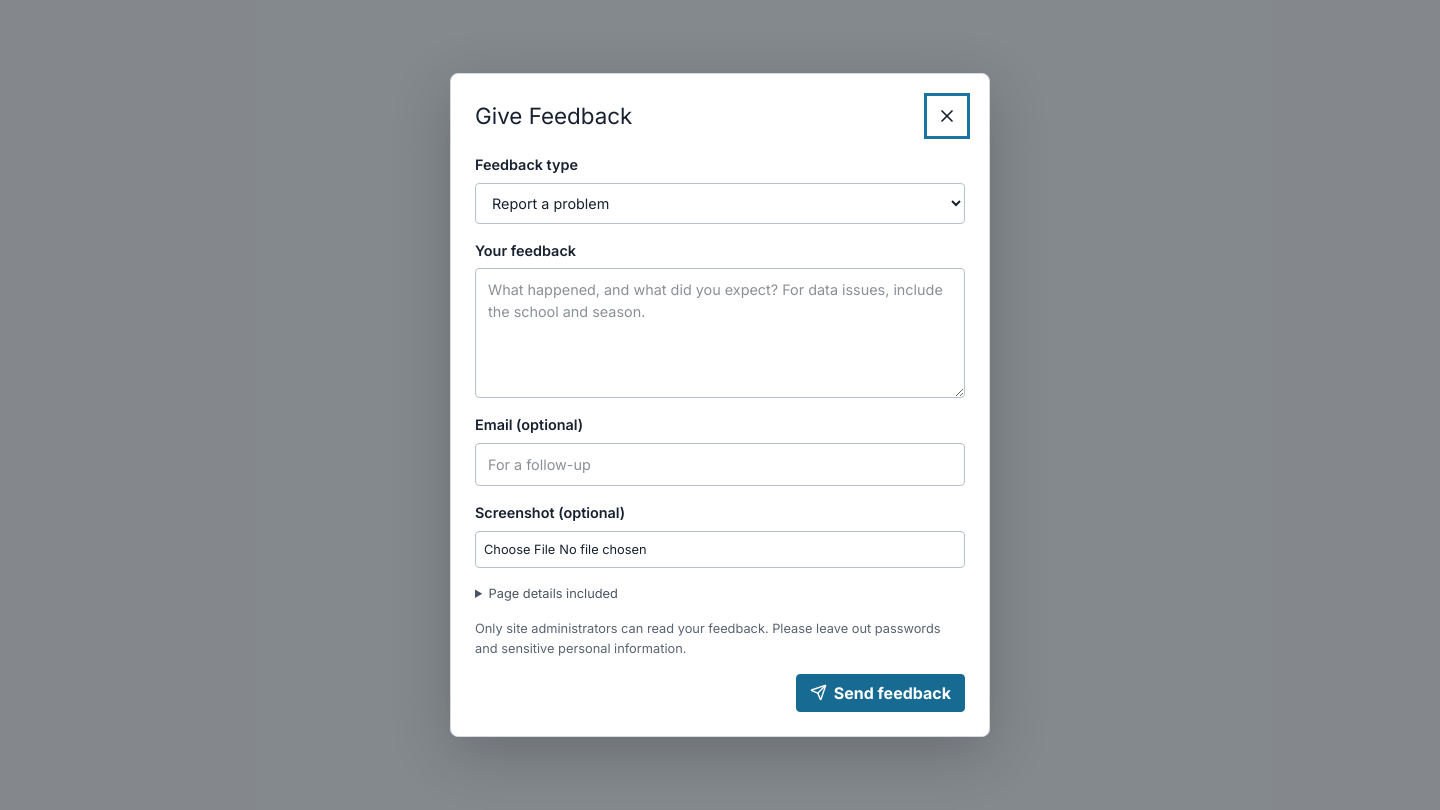
Test: FeedbackDialog › submits without email and attaches page context
In the text box labelled "Your feedback": (720,333) [475, 268, 965, 398], type "The table is difficult to read on my phone."
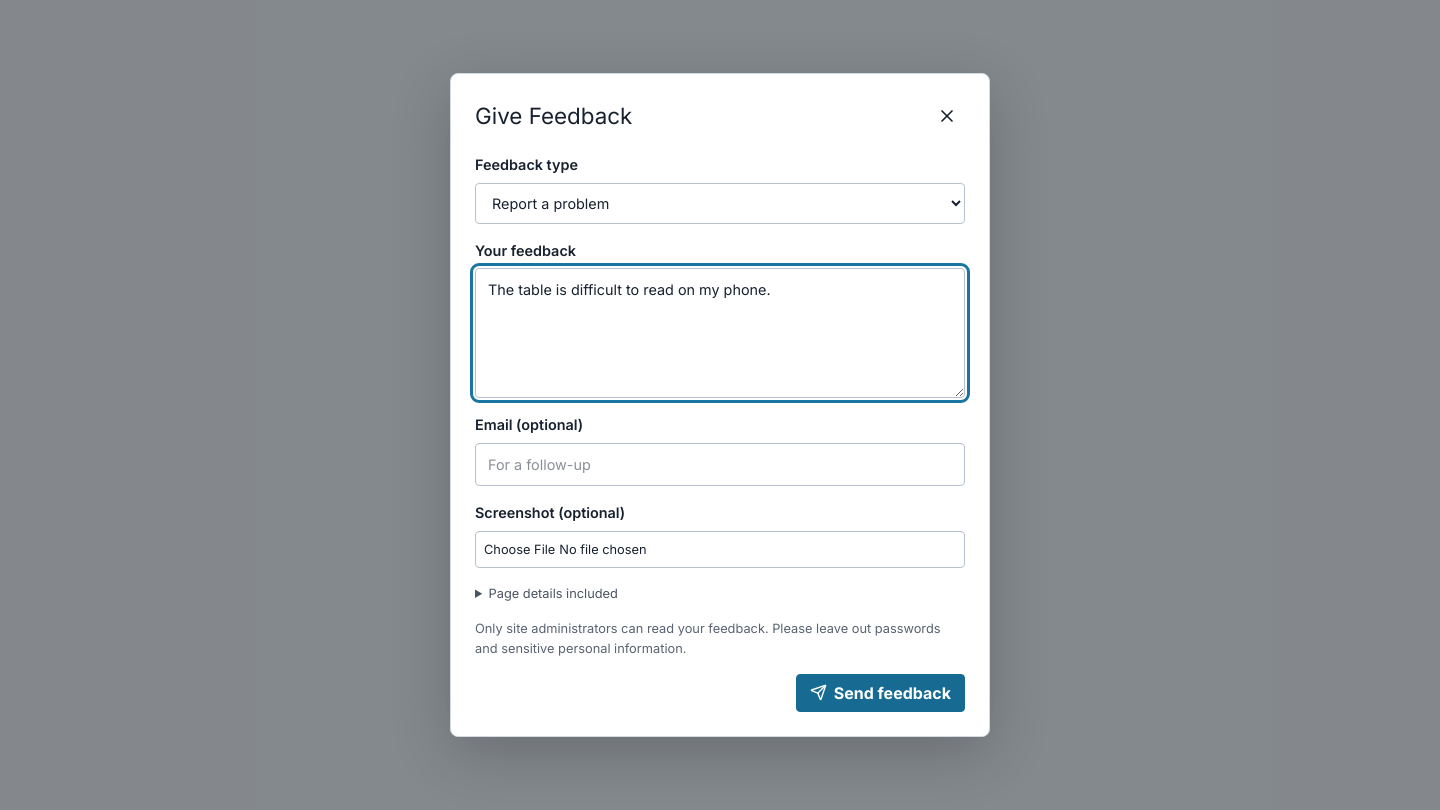
Click the button "Send feedback": (880,693) [796, 674, 965, 712]
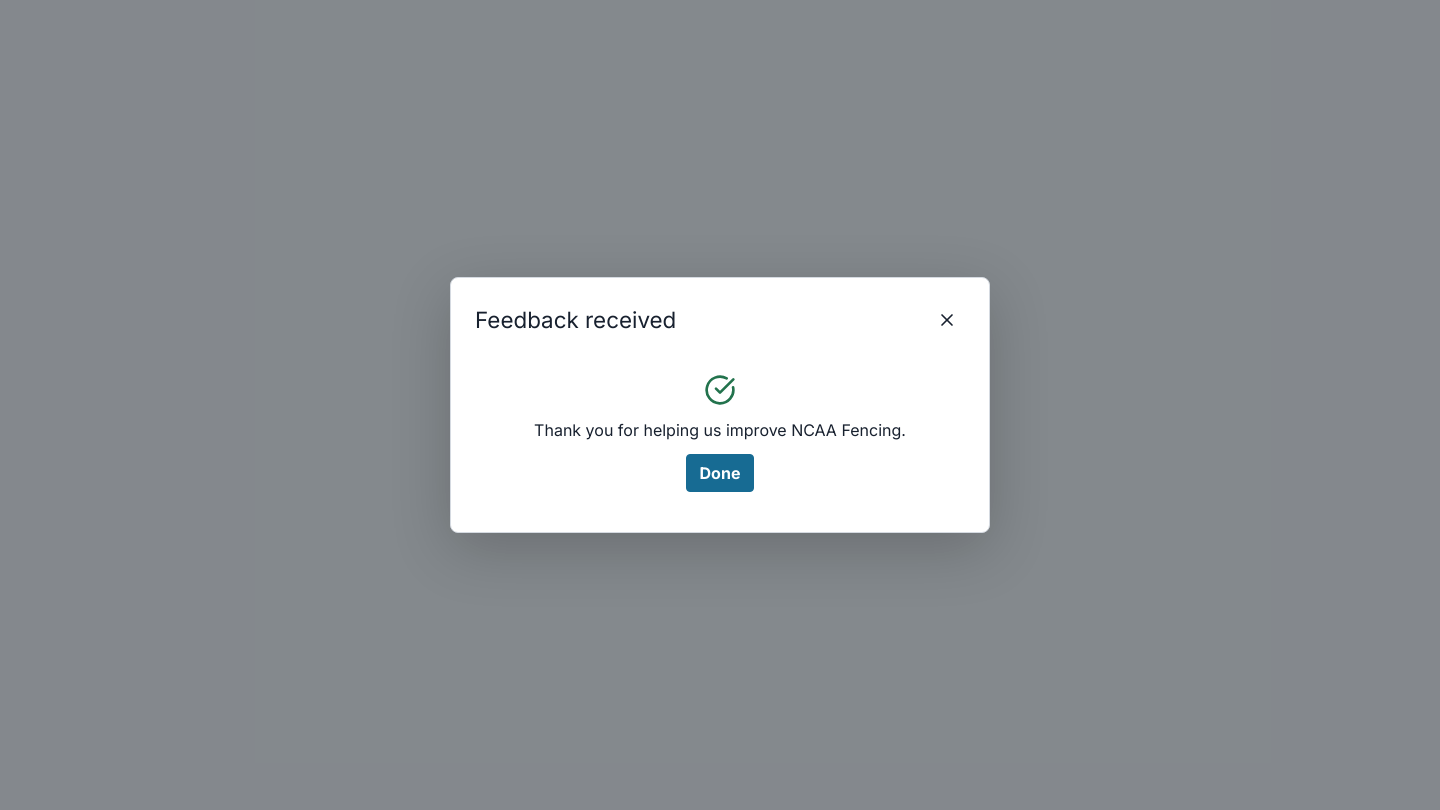
Now the text "Thank you for helping us improve NCAA Fencing." is shown, box [534, 418, 906, 442]
